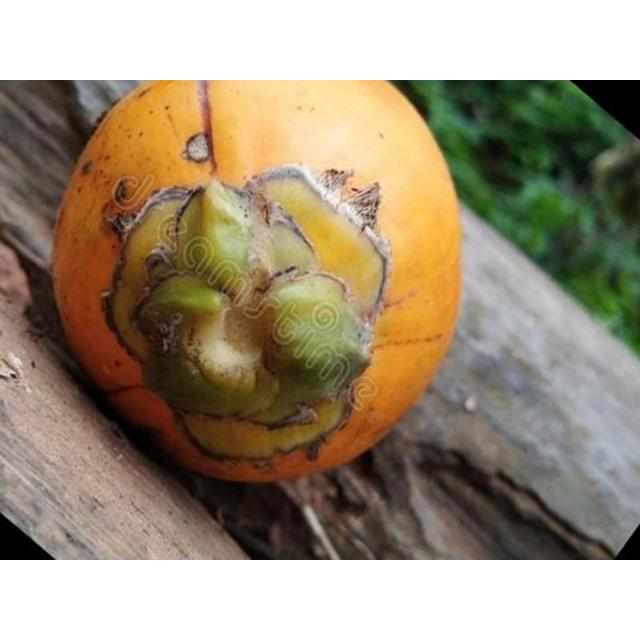good: (50, 80, 467, 487)
